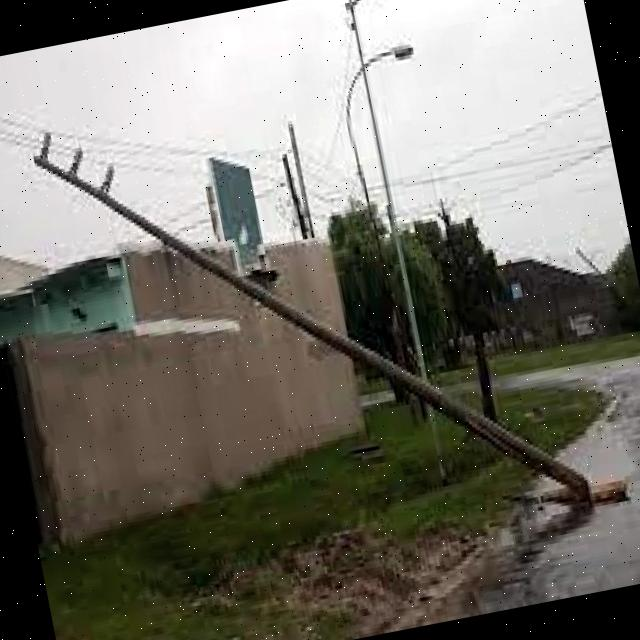Broken Pole: (19, 126, 589, 503)
